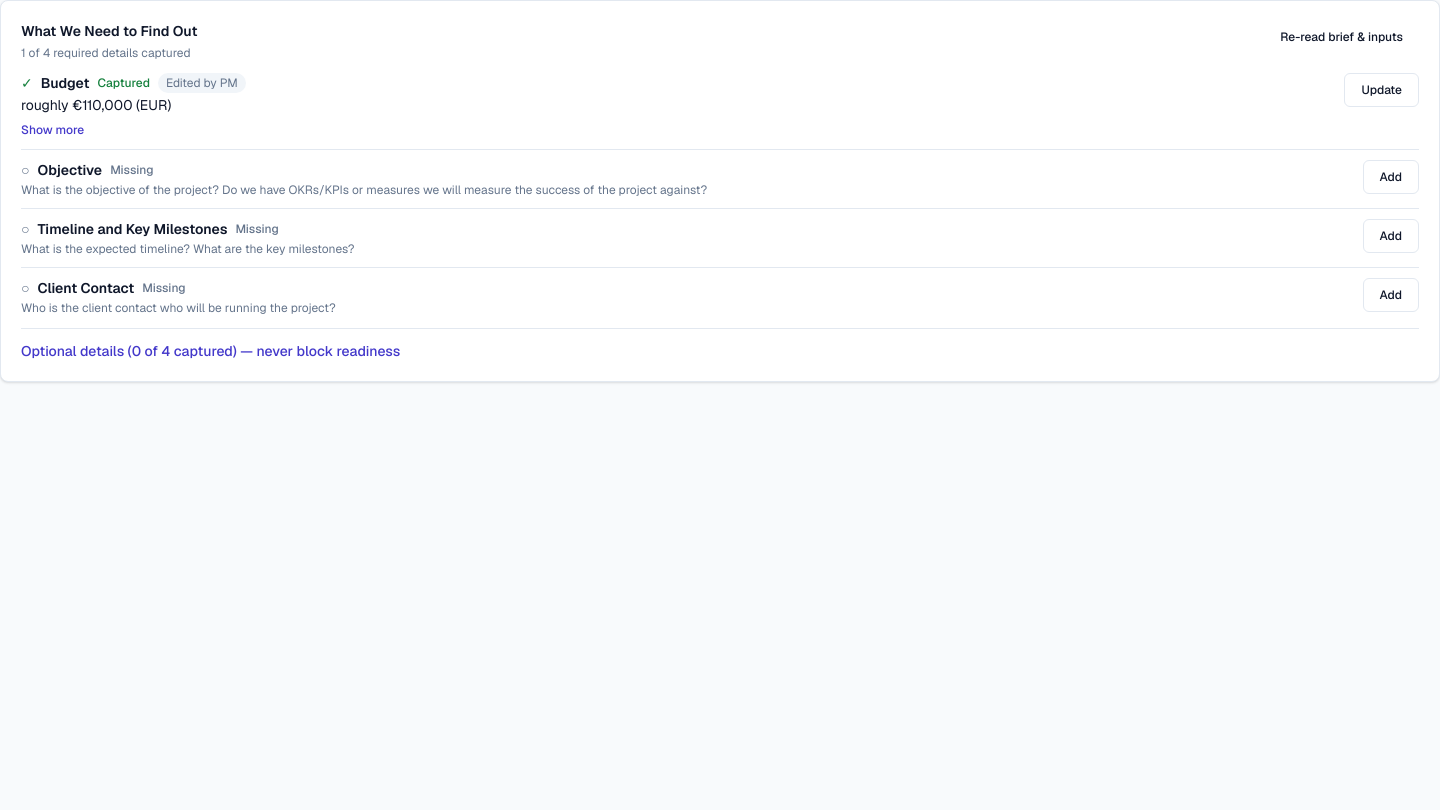
Test: BriefChecklist — What We Need to Find Out › opens a prefilled free-text field on Update, with Save and Cancel
Click the button with aria-label "Update Budget" at (1382, 90), box [1344,73,1419,107]
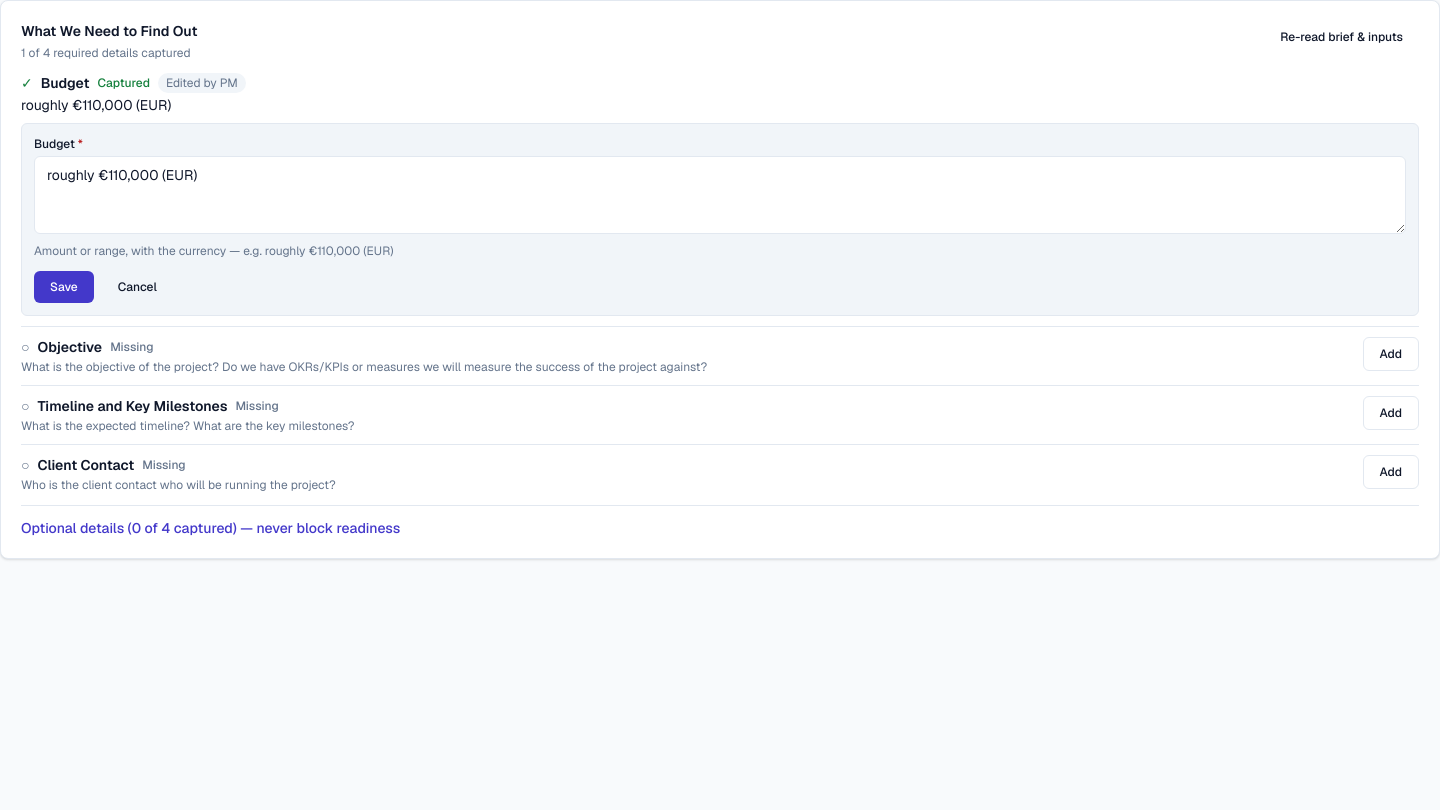
Now the text box labelled "Budget *" holds "roughly €110,000 (EUR)", box [34,156,1406,234]
Click the button "Cancel" at (137, 287), box [102,271,173,303]
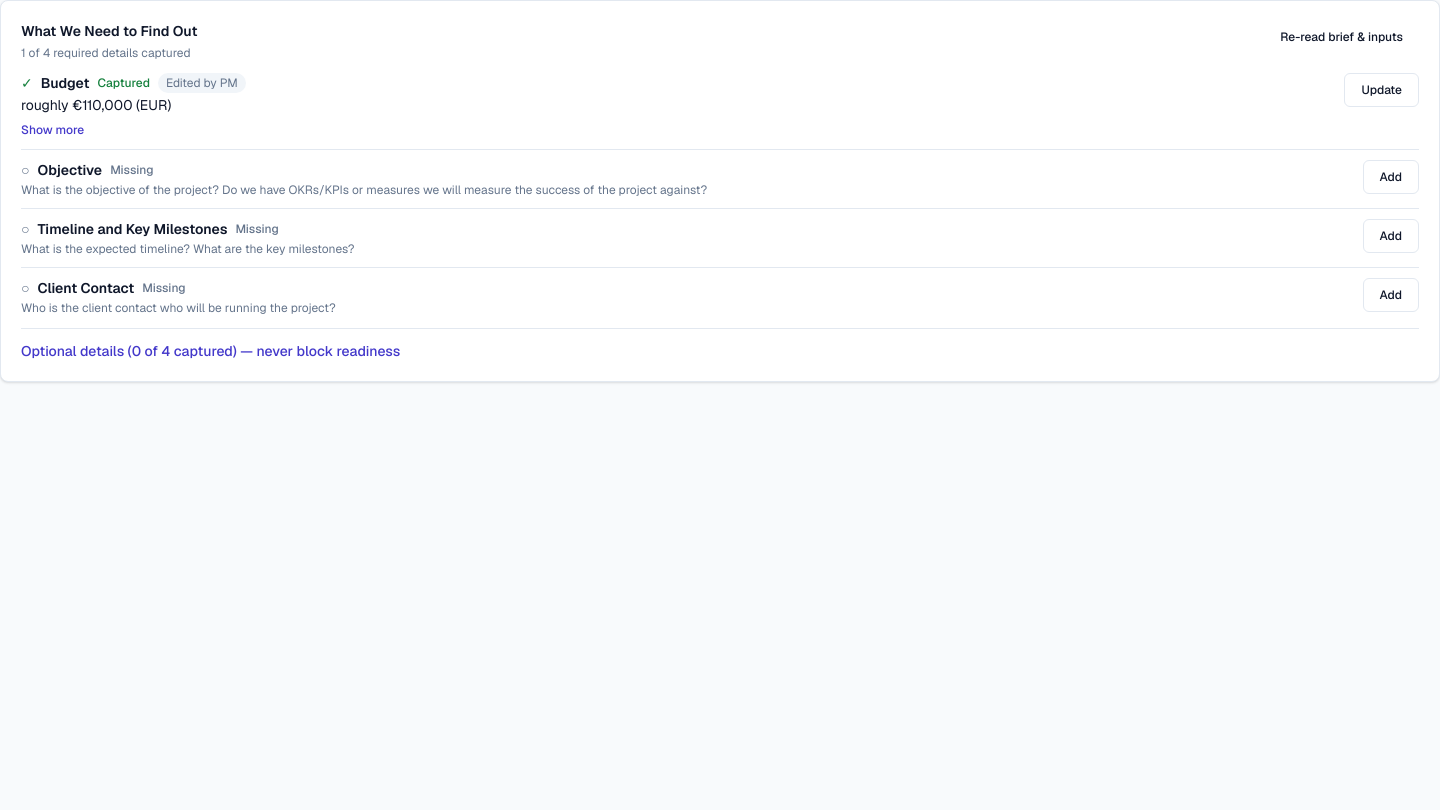
Now the button with aria-label "Update Budget" is shown, box [1344,73,1419,107]
